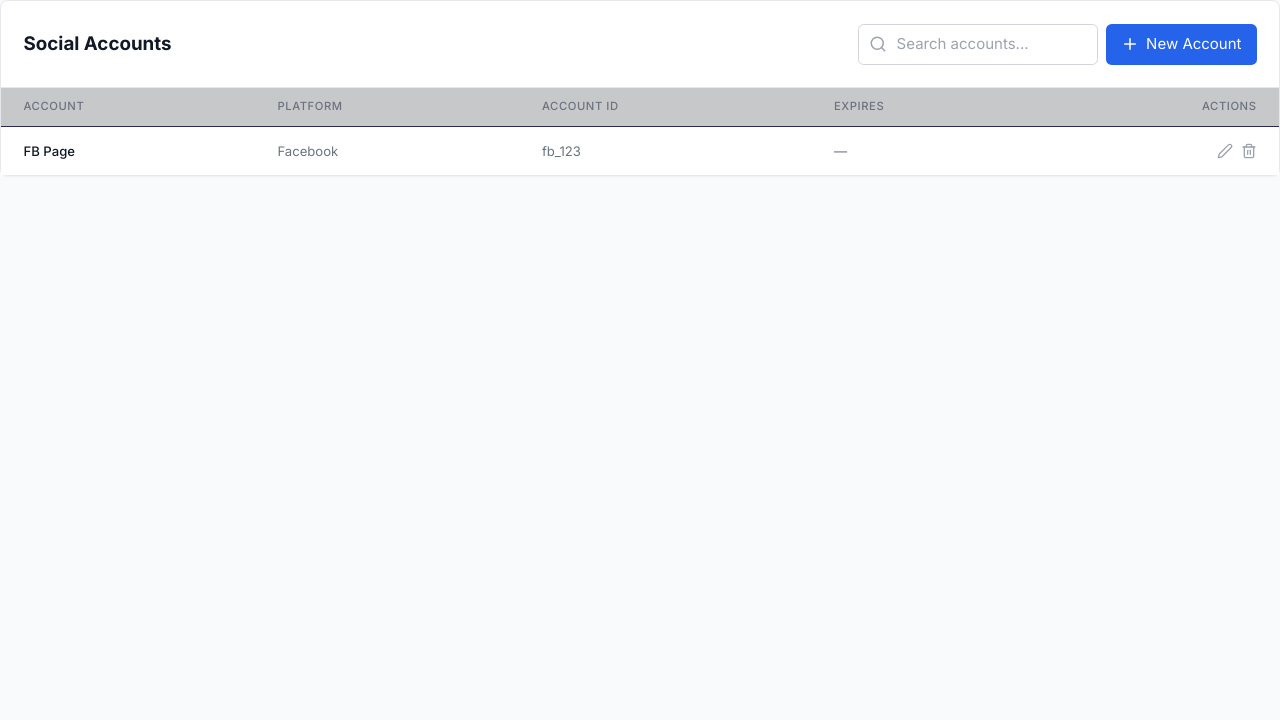
it: SocialAccountsPage › shows delete confirmation
The image size is (1280, 720).
Expected: the text "FB Page" is shown, [1,126,255,175]
Click the button titled "Delete" at (1248, 151), box [1240,143,1256,159]
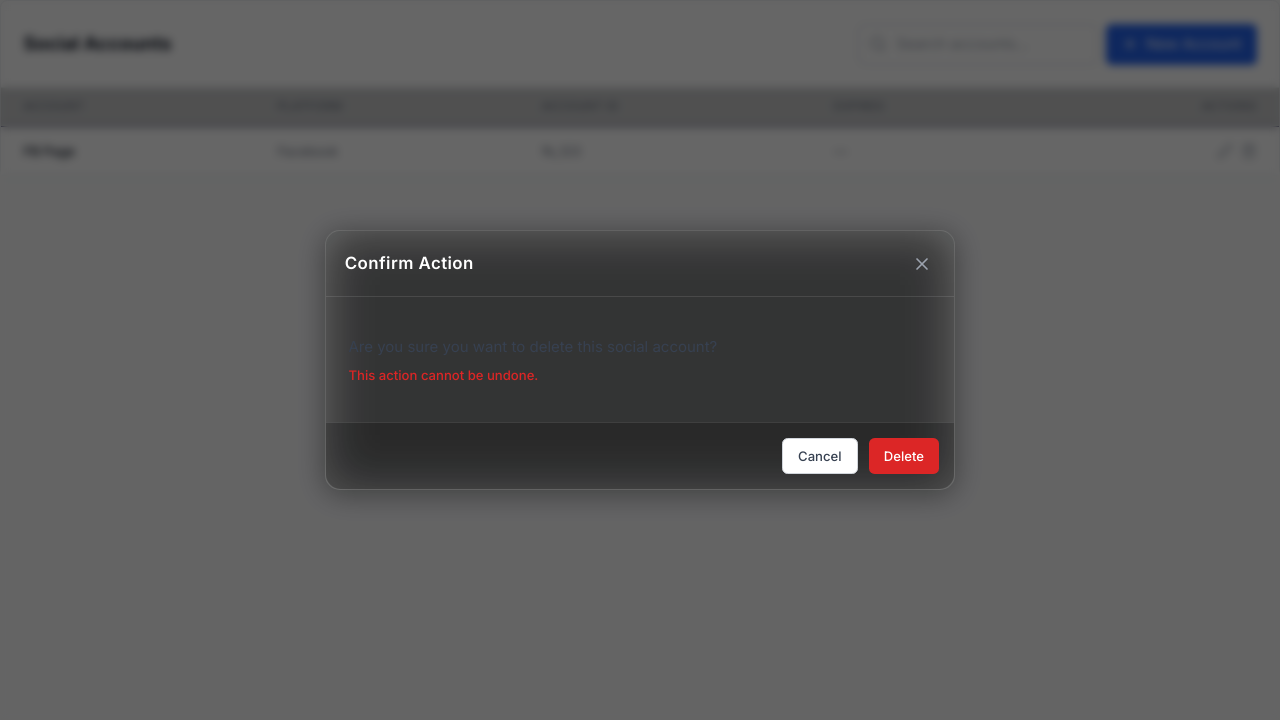
Expected: the heading "Confirm Action" is shown, [345,250,474,277]
